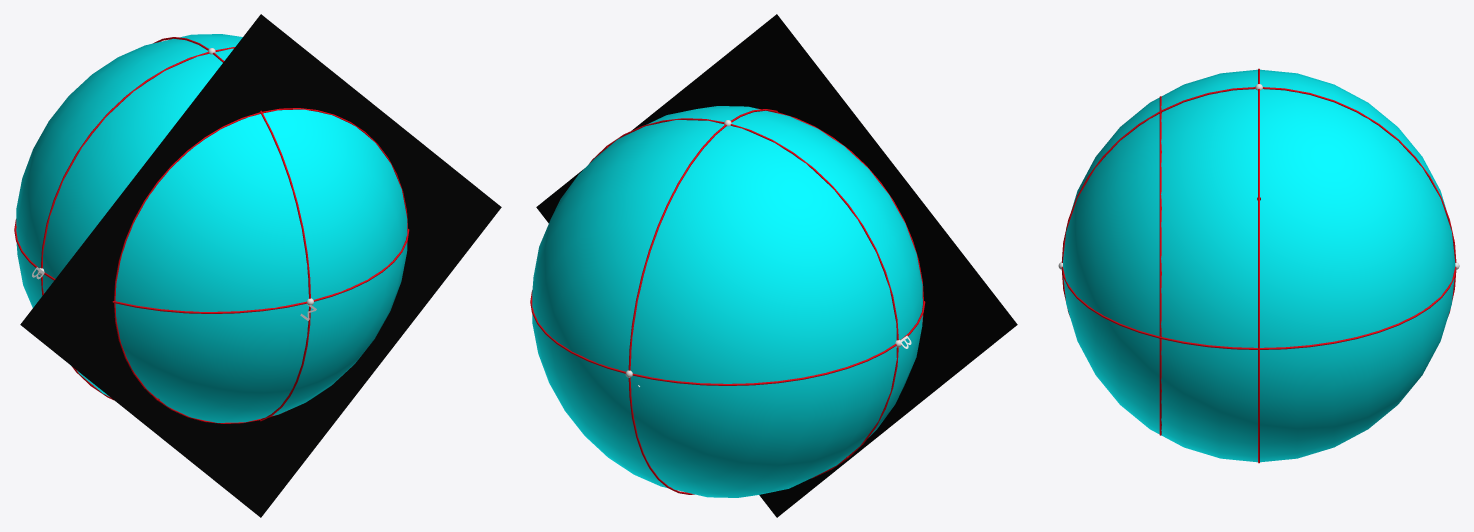
3 renders of one model, left to right at view 1: azimuth 30°, elevation 25°; view 2: azimuth 150°, elevation 25°; view 3: azimuth 270°, elevation 25°, orthographic.
Visible parts, largest first — view 1: Sphere, Plane, Torus.002, Torus.001, Torus, Torus.003; view 2: Sphere, Plane, Torus.003, Torus.001, Torus; view 3: Sphere, Torus.001, Torus, Torus.002, Torus.003.
Boxes of the visible parts, x1,y1,x2,y2 form: Sphere: [16, 34, 407, 422]; Plane: [20, 14, 501, 517]; Torus.002: [114, 108, 408, 423]; Torus.001: [153, 37, 310, 421]; Torus: [14, 219, 409, 313]; Torus.003: [40, 47, 234, 400]; Sphere: [532, 106, 922, 497]; Plane: [536, 14, 1017, 517]; Torus.003: [589, 118, 898, 478]; Torus.001: [628, 109, 777, 494]; Torus: [530, 290, 925, 385]; Sphere: [1063, 69, 1455, 462]; Torus.001: [1061, 87, 1456, 316]; Torus: [1061, 266, 1456, 349]; Torus.002: [1159, 96, 1161, 435]; Torus.003: [1258, 68, 1259, 463].
Size of the model in its own units: 2.83 by 2.83 by 2.1.
